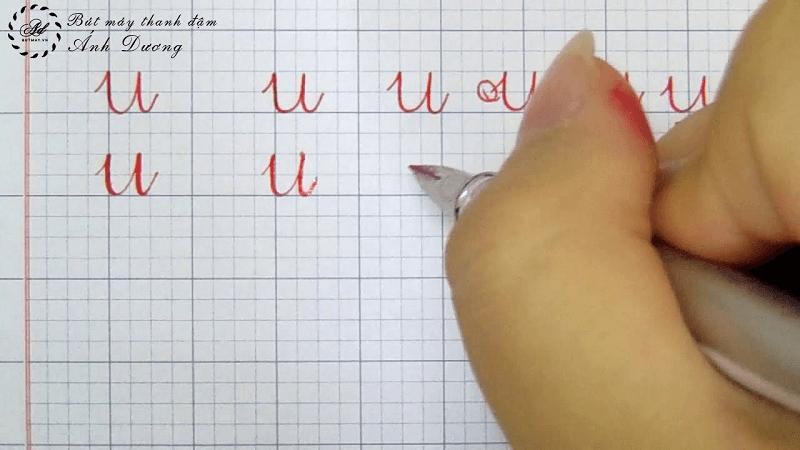text: (65, 29, 185, 61), (92, 150, 160, 201), (91, 69, 160, 117), (65, 11, 220, 32), (384, 69, 450, 118), (258, 150, 321, 201), (259, 71, 326, 117), (477, 70, 542, 116), (657, 71, 710, 116), (17, 16, 51, 38), (20, 37, 50, 45)
